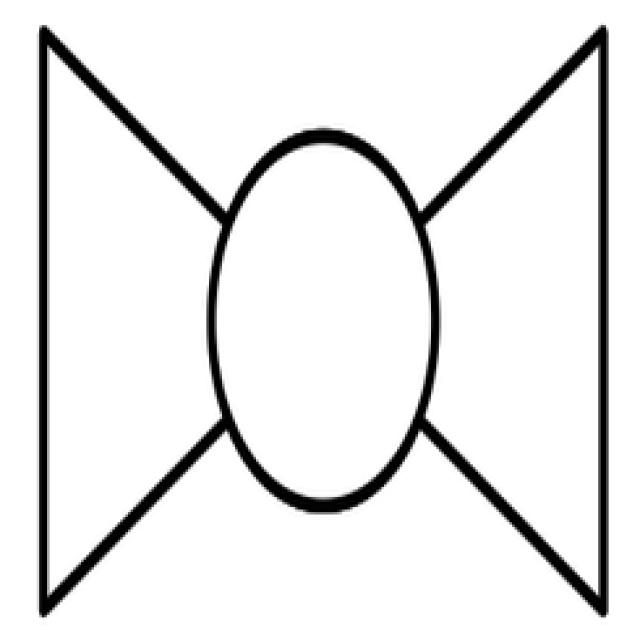ball valve: (46, 28, 611, 616)
